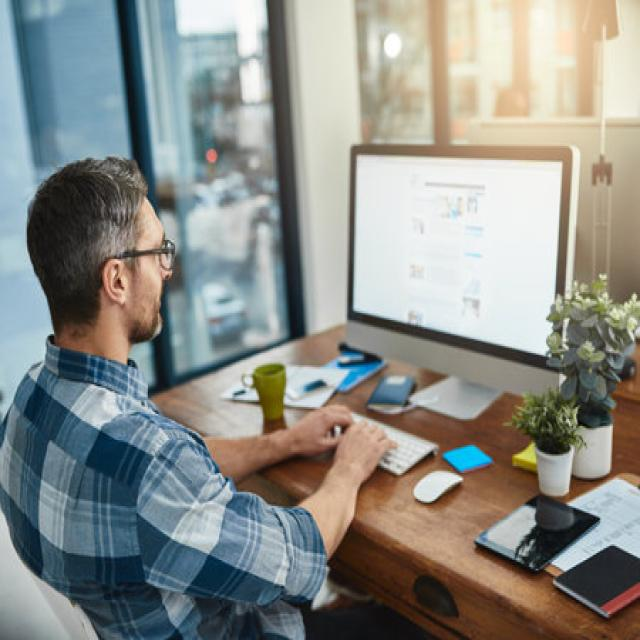desktop-person: (0, 121, 593, 640)
